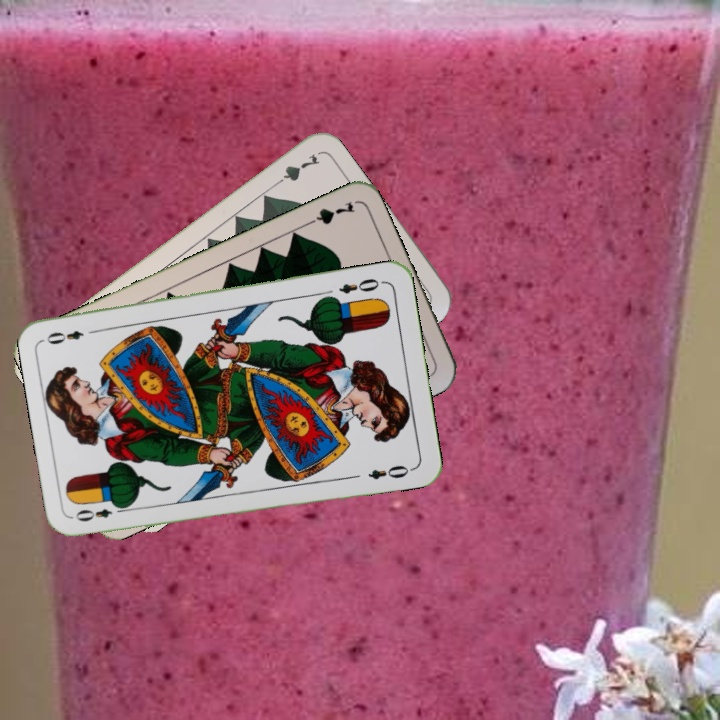EO: (71, 500, 129, 524), (335, 274, 387, 296)
G7: (268, 150, 323, 190), (300, 197, 358, 230)
